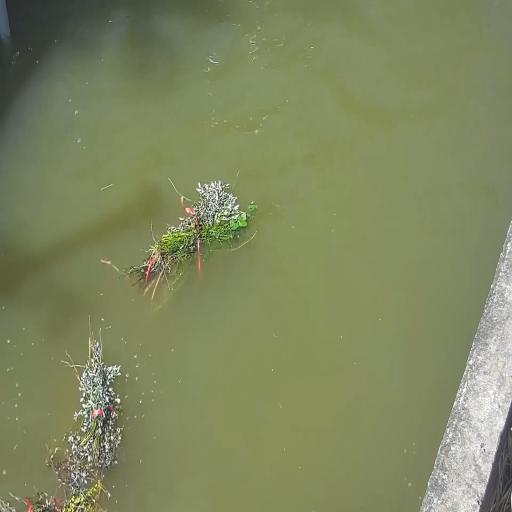twig: (116, 176, 254, 297), (62, 317, 125, 479)
